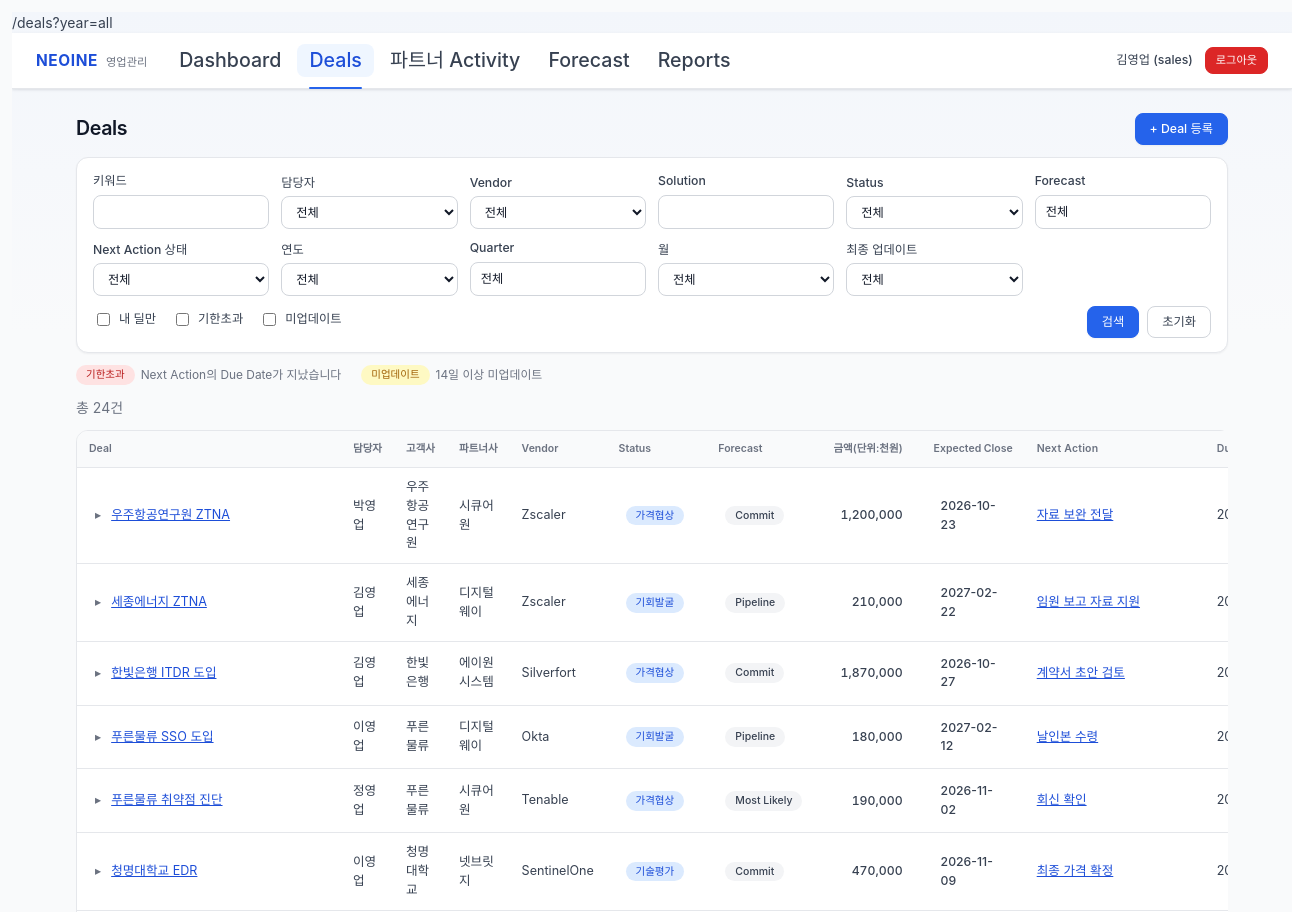
Test: Vendor 필터와 Solution 텍스트 필터 (AC-15) › filters by the vendor id and then by the solution text
This screenshot has width=1292, height=912.
Expected: the row "한빛은행 ITDR 도입" is shown, x1=77 y1=642 x2=1228 y2=706
Step 1. Select "Silverfort" in the dropdown labelled "Vendor" → (558, 213), box x1=470 y1=196 x2=646 y2=229
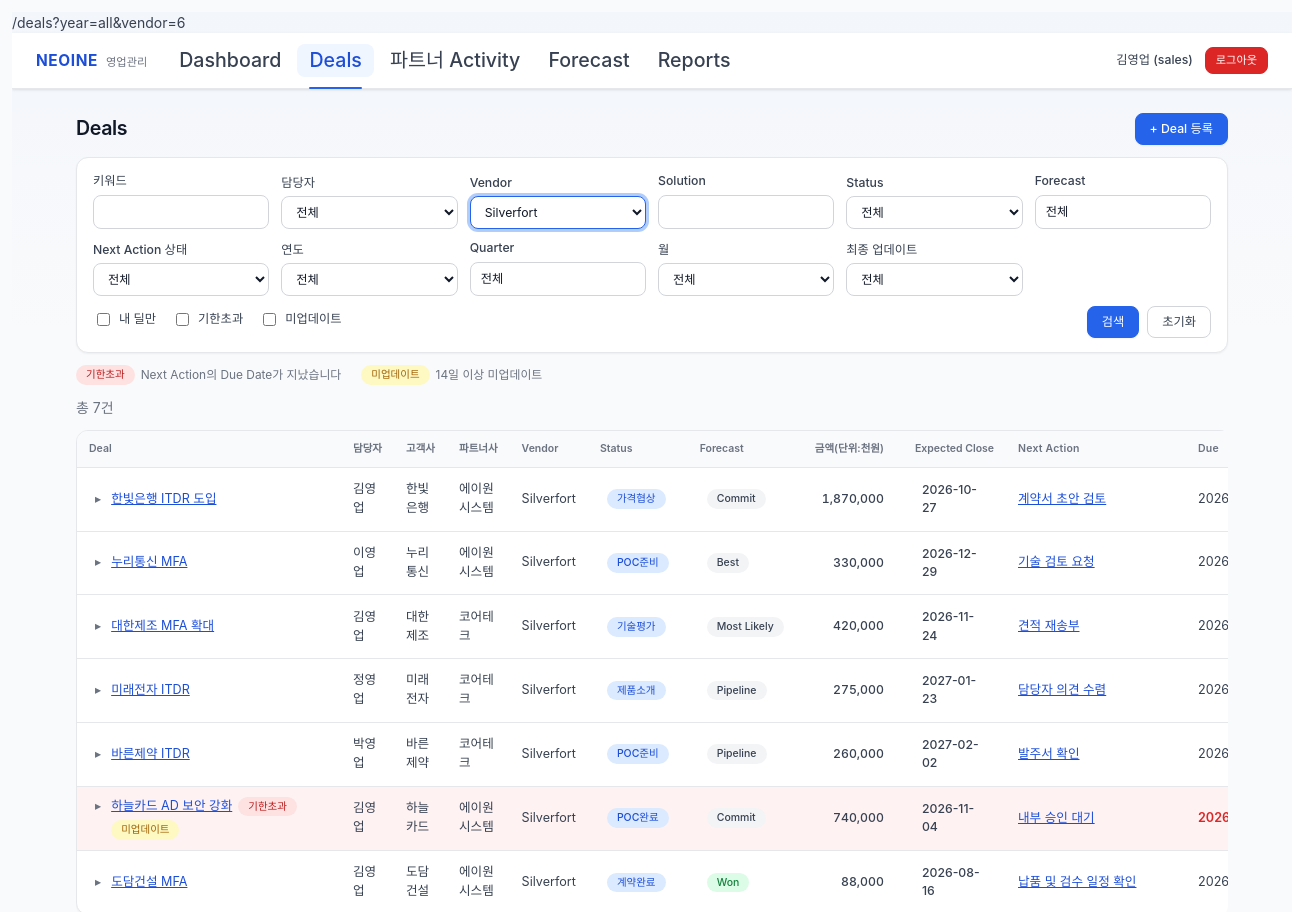
Step 2. Type "mfa" into the field labelled "Solution" → (746, 212), box x1=658 y1=195 x2=834 y2=229
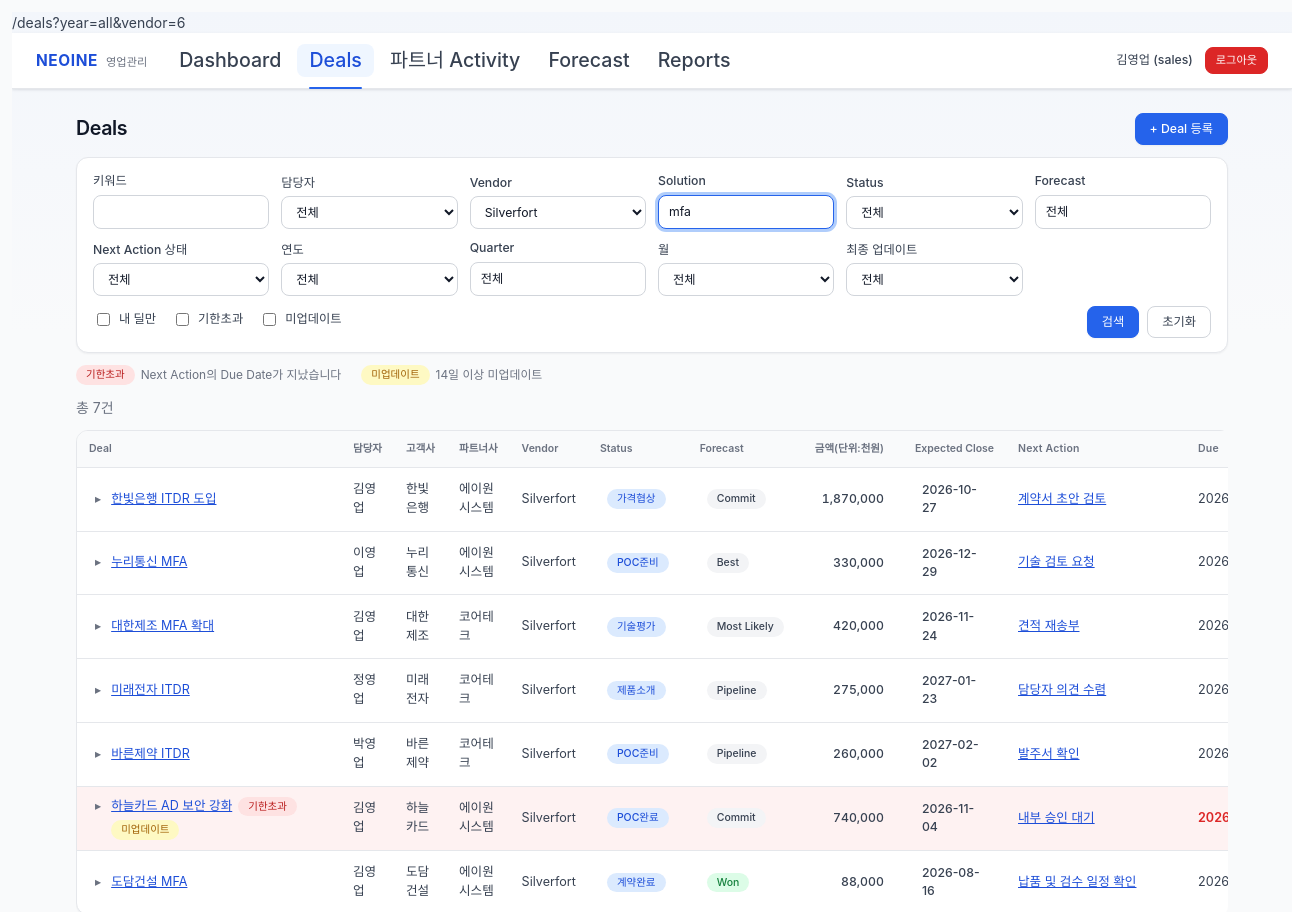
Step 3. Click the button "검색" → click(1113, 322), box x1=1087 y1=306 x2=1139 y2=338
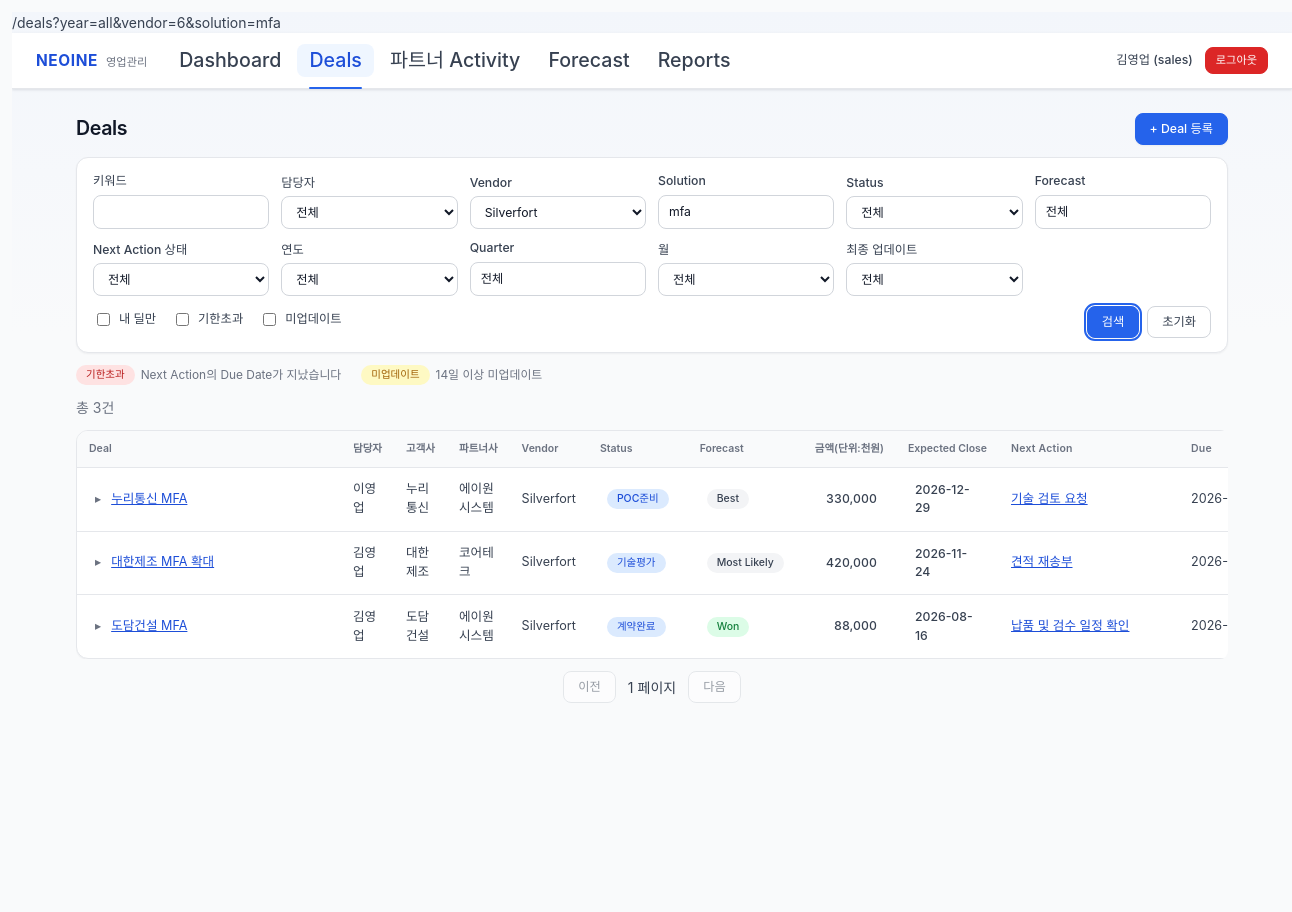
Now the text with test id "location" shows "solution=mfa", box x1=12 y1=14 x2=281 y2=31
